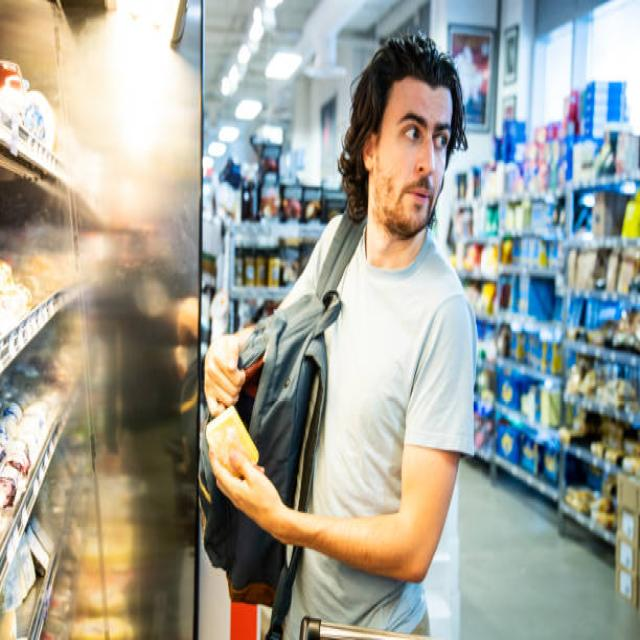article: (207, 406, 258, 467)
bags: (235, 221, 363, 510), (199, 444, 300, 638)
hands: (210, 445, 458, 582), (204, 326, 252, 416)
person: (211, 36, 476, 638), (278, 218, 340, 311)
